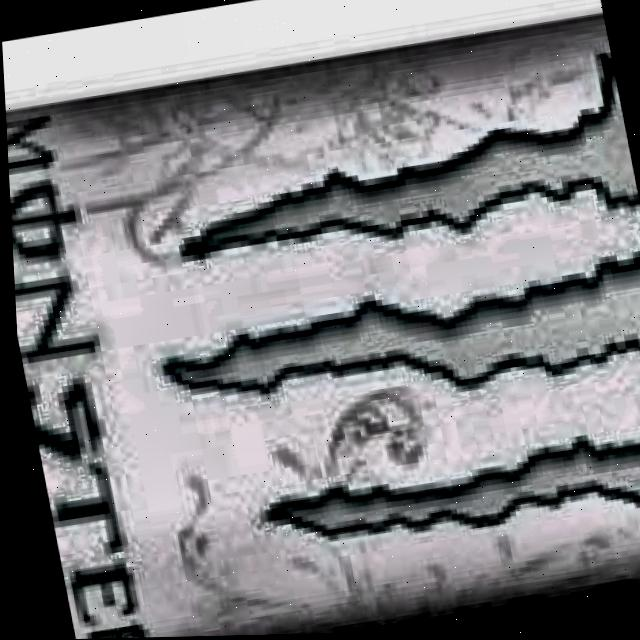metal: (4, 15, 640, 639)
